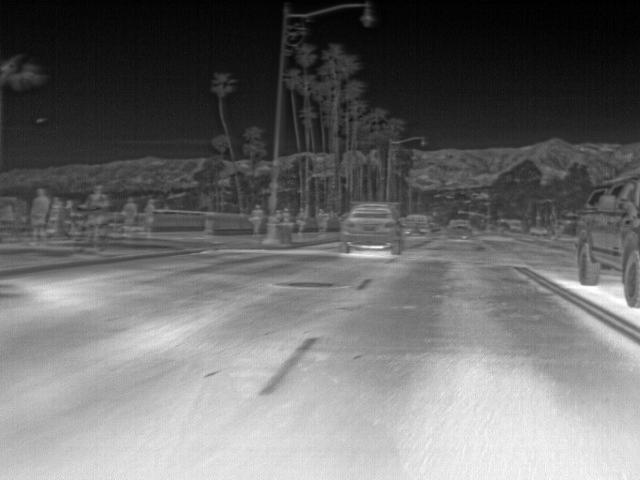car: (574, 170, 640, 306), (338, 201, 405, 254), (400, 213, 431, 240), (446, 217, 475, 243)
person: (28, 186, 50, 242), (120, 197, 144, 236), (79, 185, 111, 210), (140, 197, 159, 237), (293, 206, 312, 236), (250, 204, 267, 236), (315, 208, 332, 237), (280, 206, 292, 226)
